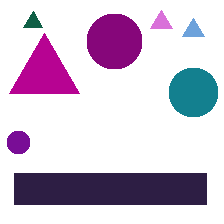circle: (87, 14, 141, 68), (169, 68, 217, 116), (7, 131, 29, 153)
rectangle: (14, 173, 206, 204)
triangle: (9, 33, 79, 93), (150, 10, 172, 28), (182, 18, 204, 36), (23, 11, 42, 27)
